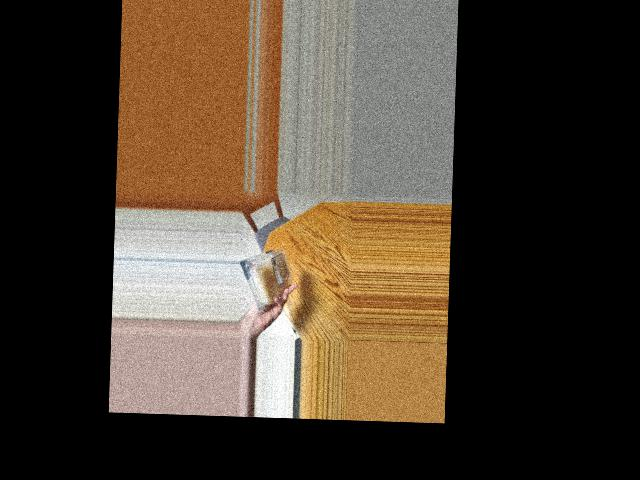cheese: (242, 248, 291, 305)
